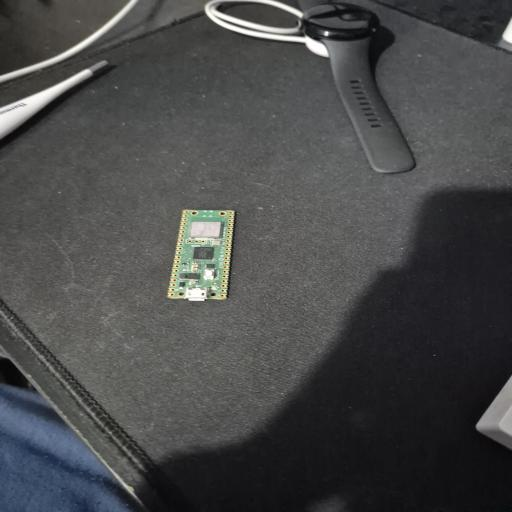raspberry-pi-pico-w: (169, 209, 236, 301)
